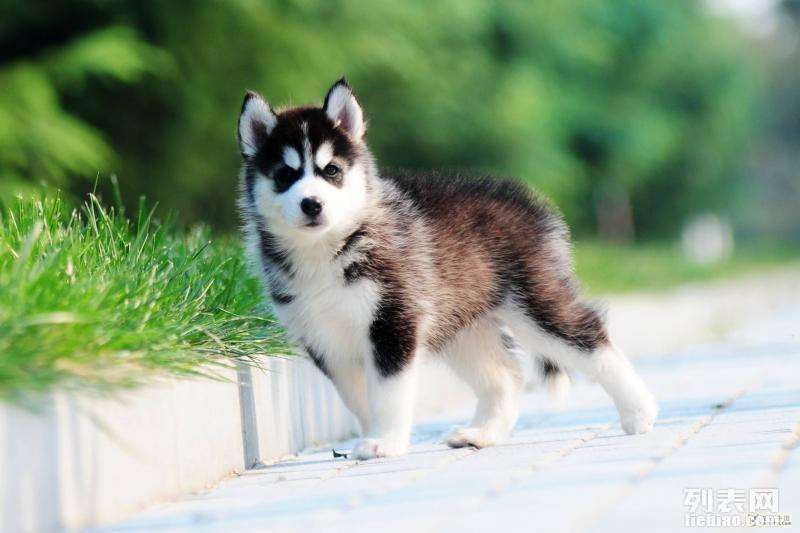dog: (234, 80, 665, 461)
